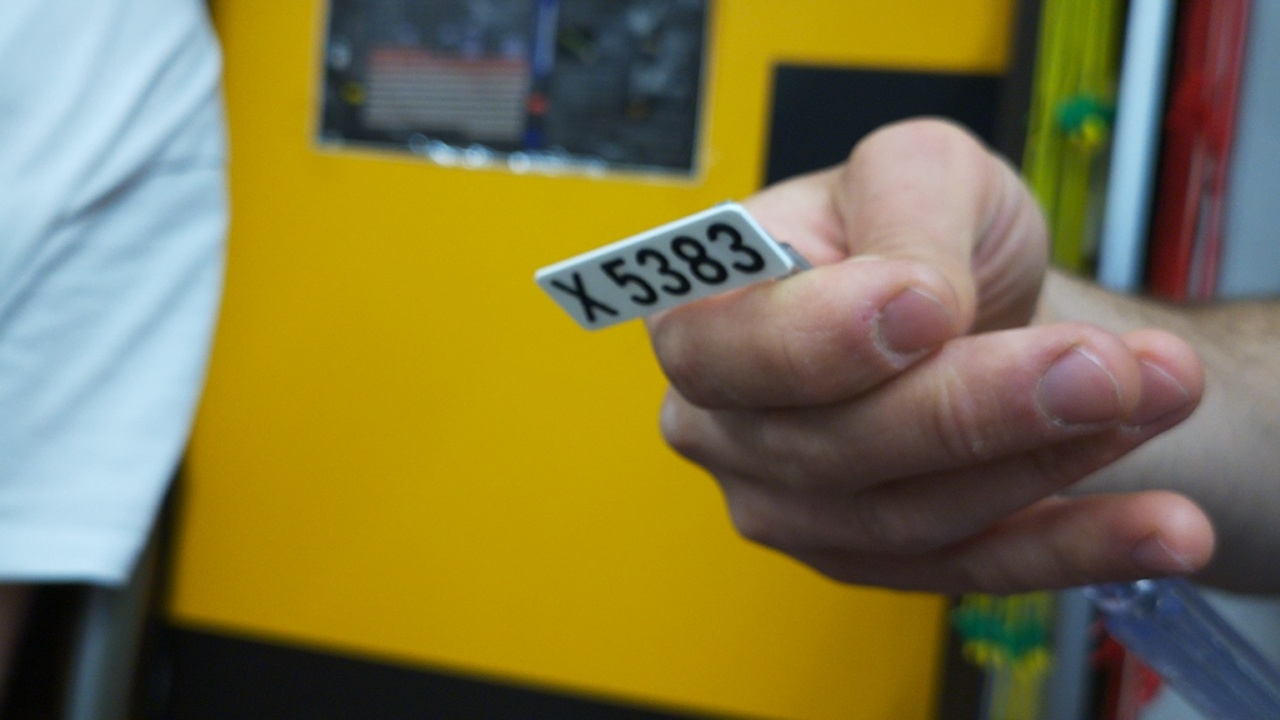license_plate: (533, 201, 795, 336)
